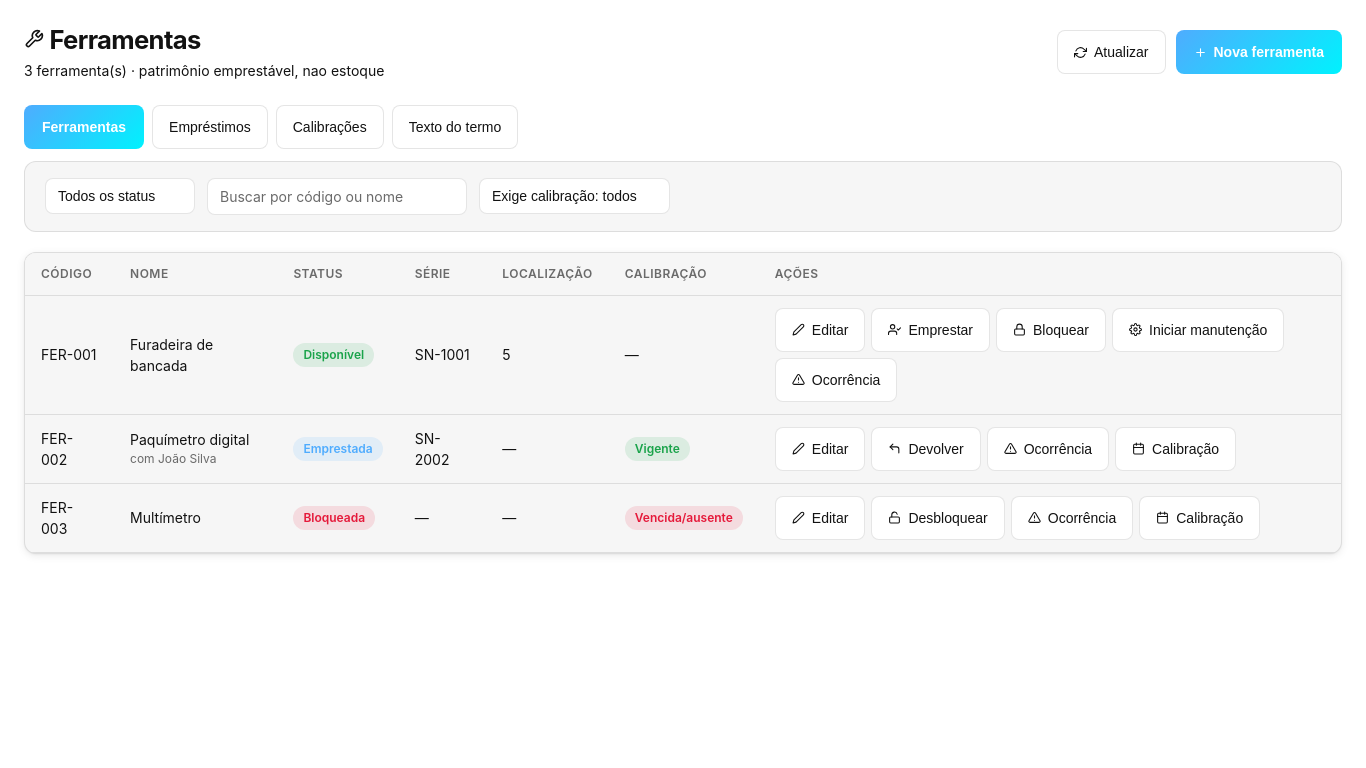
Test case: FerramentasAlmoxarifado — emprestar (Etapa 180, termo de responsabilidade) › sem provisório: o selo não aparece
Click the button "Emprestar". click: x=931, y=330
box: [871,308,990,352]
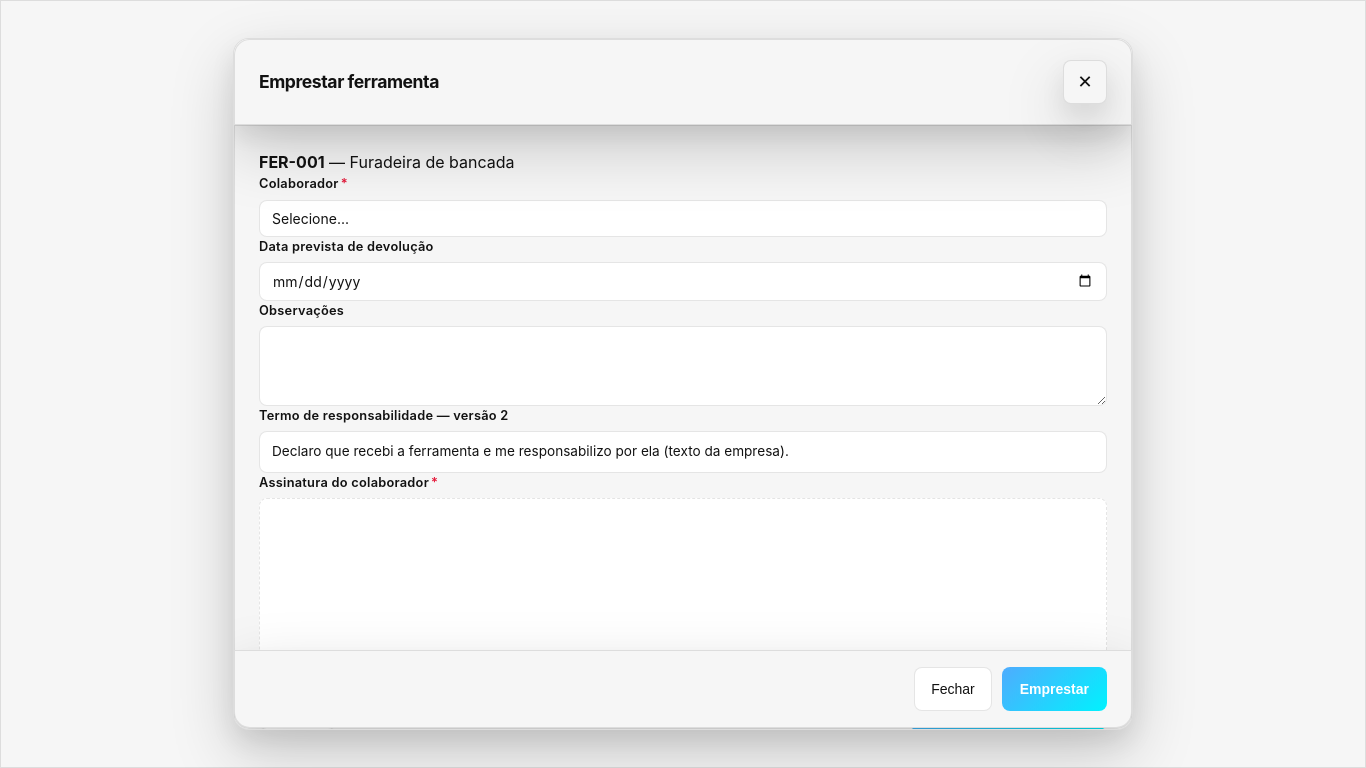
Result: the text with class "almox-termo-texto" reads "Declaro que recebi a ferramenta e me responsabilizo por ela (texto da empresa)." at [272,443,789,459]
